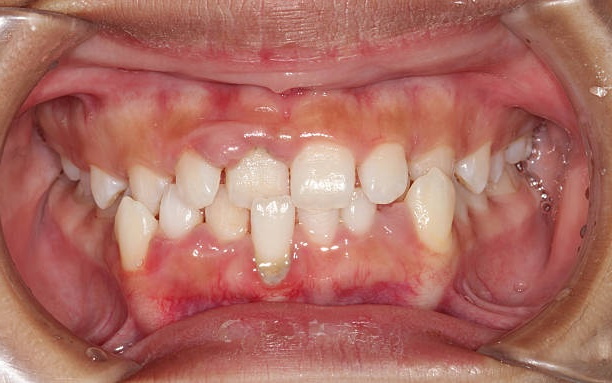Gingivitis: (146, 273, 314, 315), (322, 267, 429, 306)
